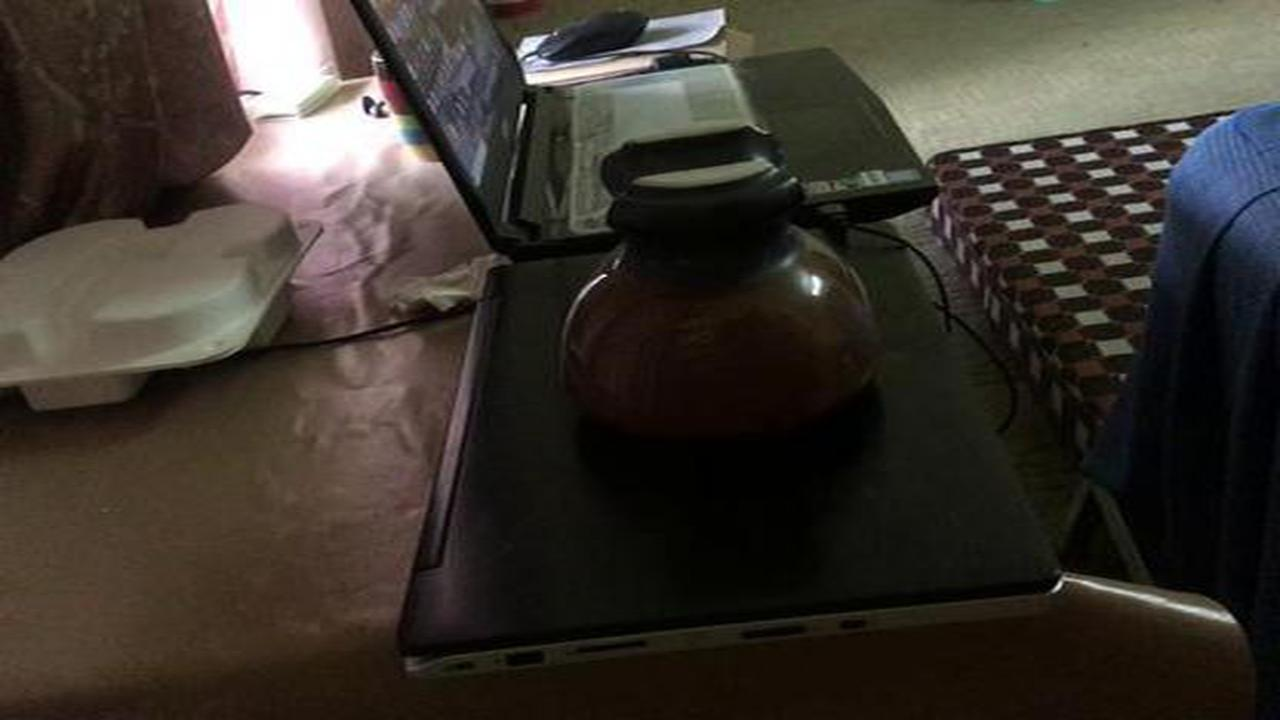insulator_pin: (536, 120, 921, 480)
